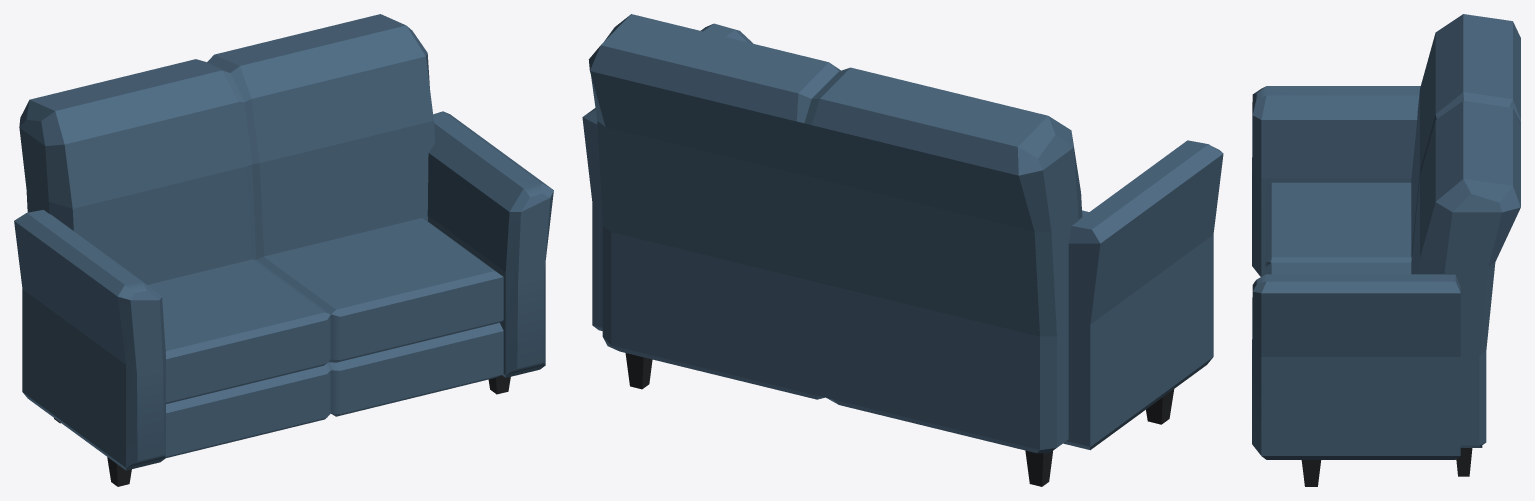
Rendered from Prop_Couch_02.glb.
3 views of the same model, side by side, from view 1: azimuth 30°, elevation 25°; view 2: azimuth 150°, elevation 25°; view 3: azimuth 270°, elevation 25° (orthographic). The views are drawn at different scales.
Visible parts, largest first — view 1: SM_Prop_Couch_02; view 2: SM_Prop_Couch_02; view 3: SM_Prop_Couch_02.
Part boxes in pixels (x1,y1,x2,y2): SM_Prop_Couch_02: (14, 14, 553, 486); SM_Prop_Couch_02: (582, 14, 1223, 486); SM_Prop_Couch_02: (1252, 14, 1520, 486).
Bounding box in the file's own units: 1.66 × 1.13 × 0.9196.
Materials: 1 (1 with a texture image).
